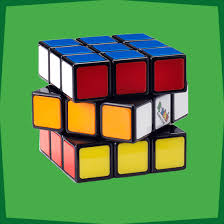cube: (28, 31, 193, 185)
